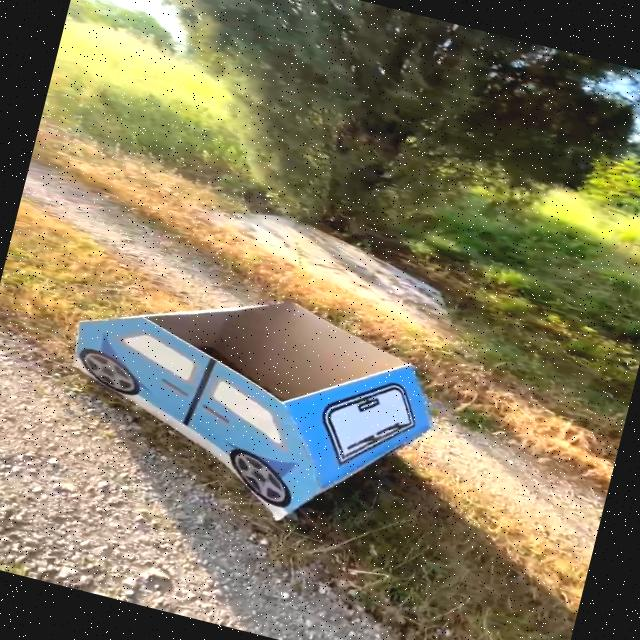blue_car: (0, 215, 521, 584)
